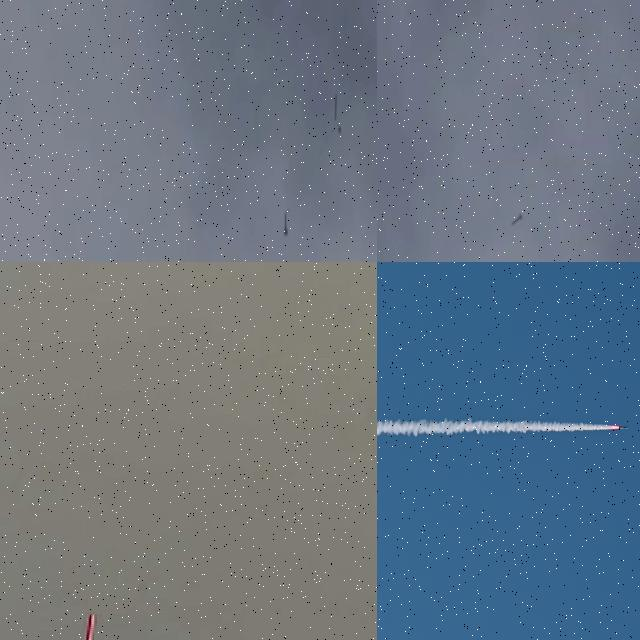Rocket: (82, 613, 96, 640), (512, 212, 522, 225), (284, 213, 288, 236), (619, 426, 628, 429)
